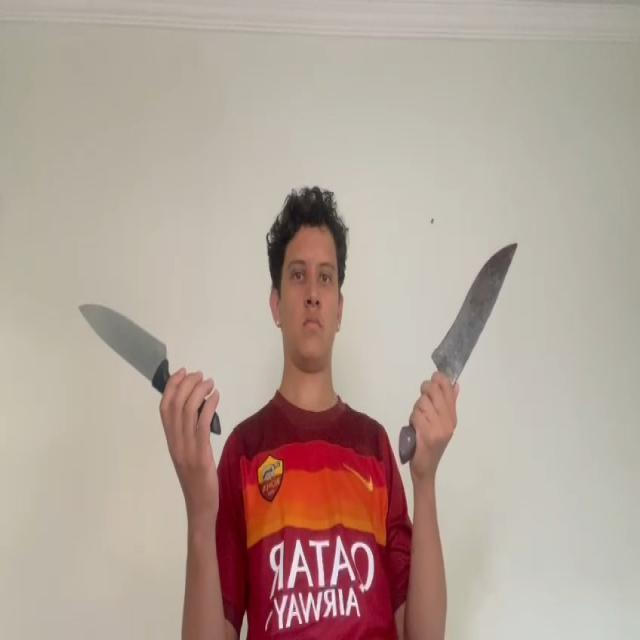knife: (430, 240, 518, 370), (77, 305, 168, 381)
